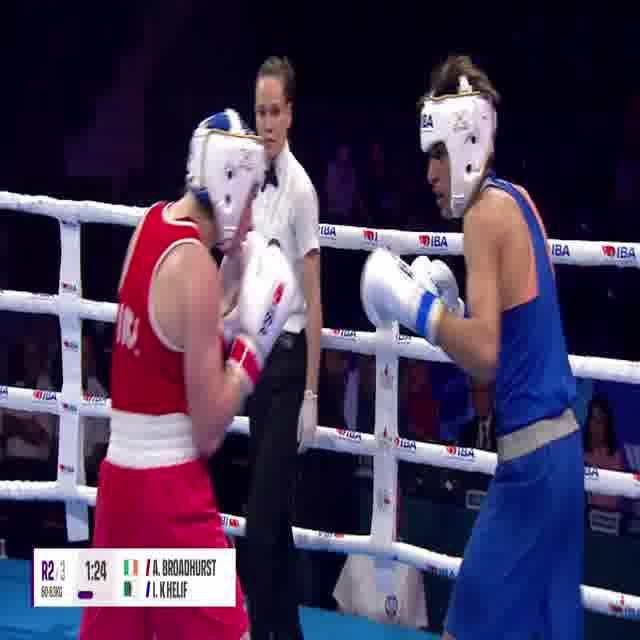blue-player: (358, 43, 592, 640)
red-player: (74, 107, 304, 640)
referee: (222, 57, 325, 640)
